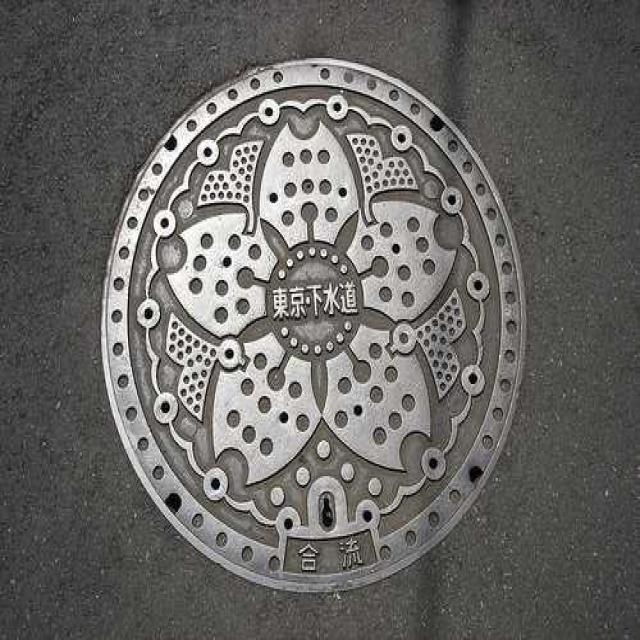manhole: (101, 60, 525, 591)
